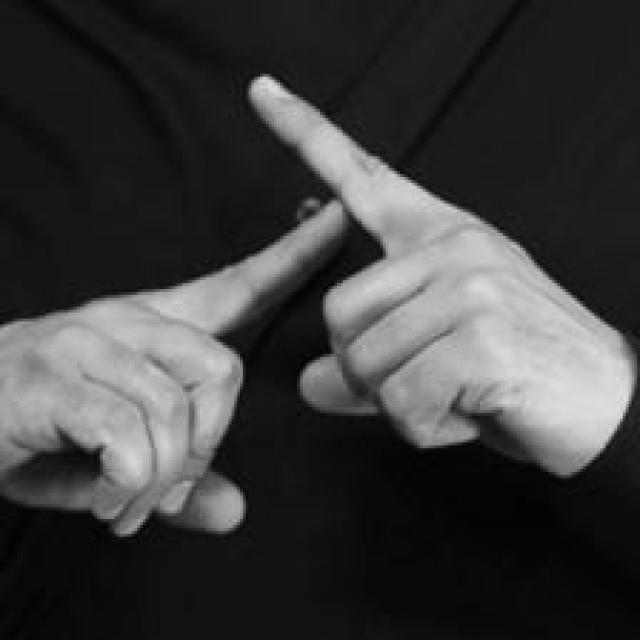T: (1, 64, 640, 552)
